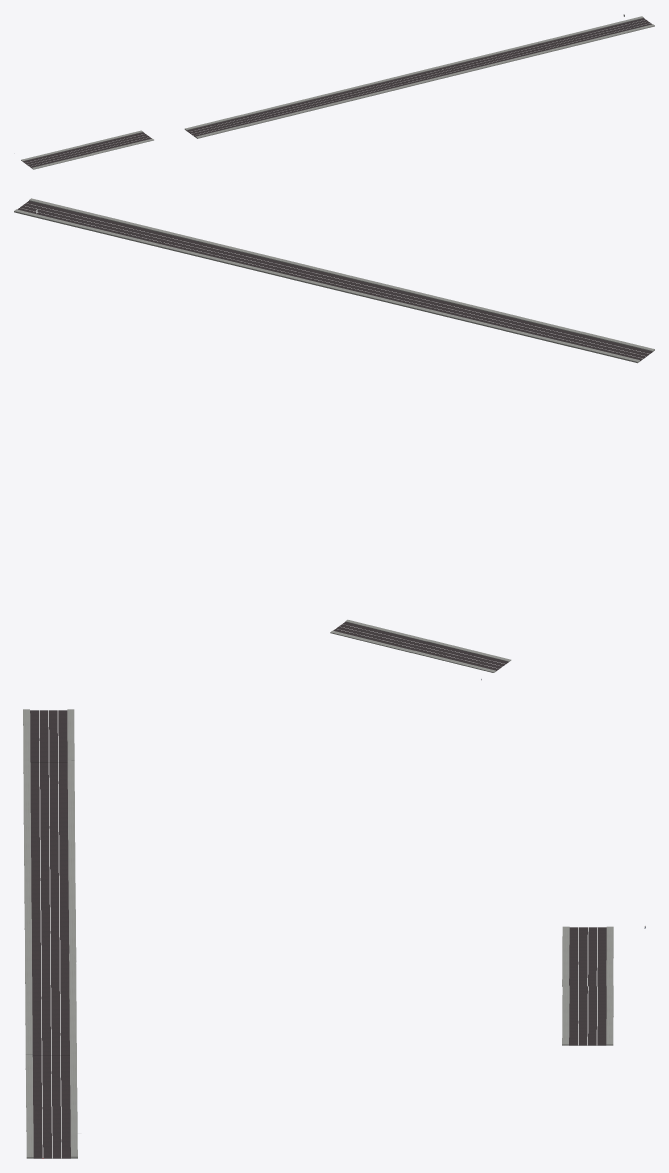
3 renders of one model, top to bottom at view 1: azimuth 30°, elevation 25°; view 2: azimuth 150°, elevation 25°; view 3: azimuth 270°, elevation 25°, orthographic. The views are drawn at different scales.
Visible parts, largest first — view 1: Geom3D (×22); view 2: Geom3D (×11); view 3: Geom3D (×22).
Boxes of the visible parts, box(x1,y1,x2,y2) form: Geom3D (×22): box(21, 16, 654, 169); Geom3D (×11): box(17, 201, 652, 671); Geom3D (×22): box(23, 709, 613, 1158).
Bounding box in the file's own units: 495 × 125 × 274.
25 materials, 2 textured.
